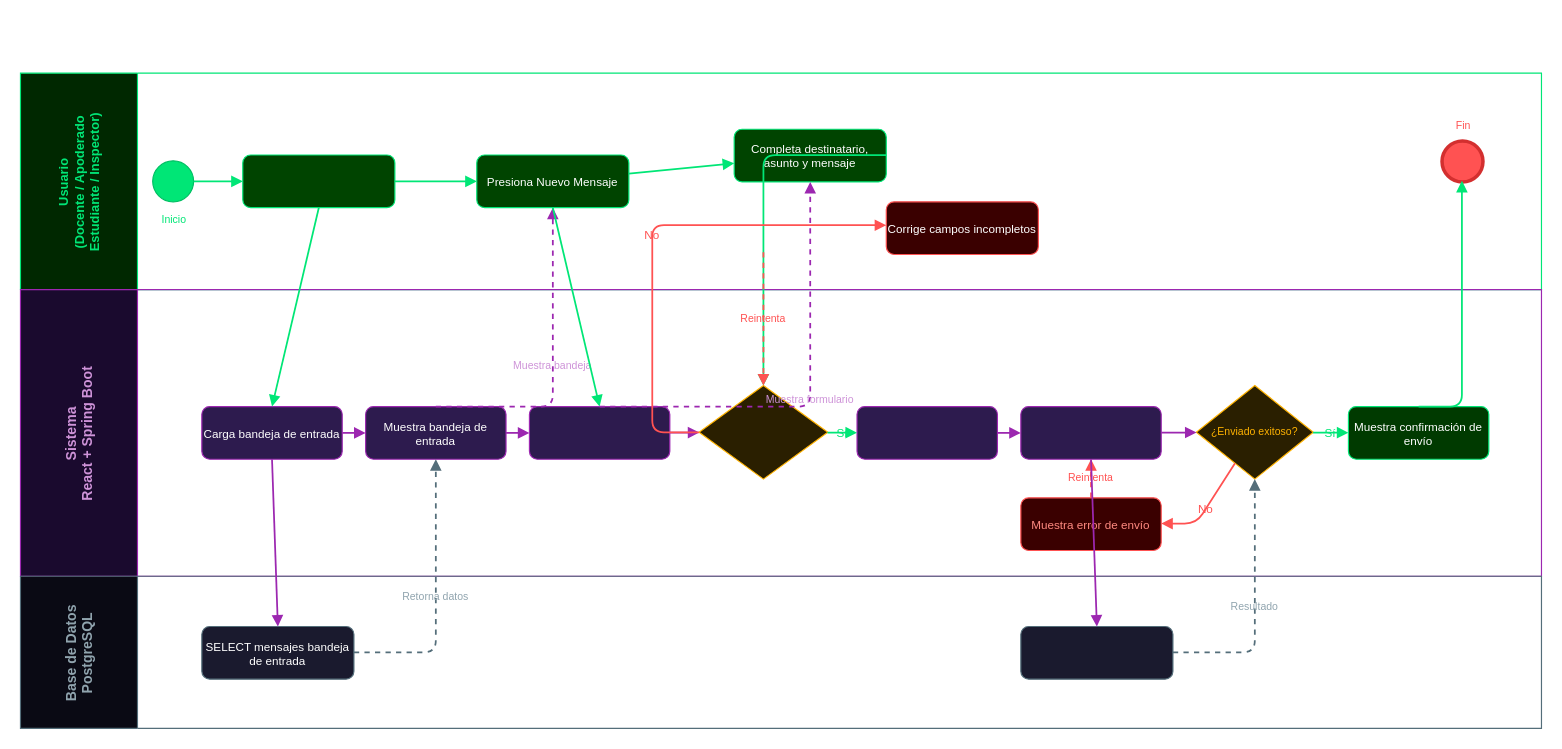
Image size: 1562x749. Some labels were removed from this diagram. The shapes that lost their labels are listed below. From the top down, each one's centre as x and y in pixels, then its label:
At [318,181]: "Accede al módulo de Mensajería".
At [599,432]: "Muestra formulario de nuevo mensaje".
At [763,431]: "¿Campos completos?".
At [926,432]: "Guarda mensaje".
At [1090,432]: "Notifica al destinatario".
At [1096,652]: "INSERT mensaje + UPDATE bandeja destinatario".
